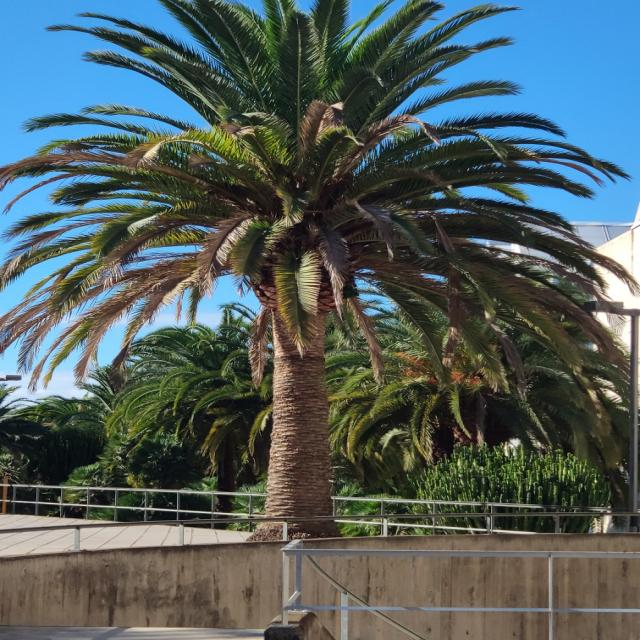Palm-Trees: (22, 0, 594, 539)
